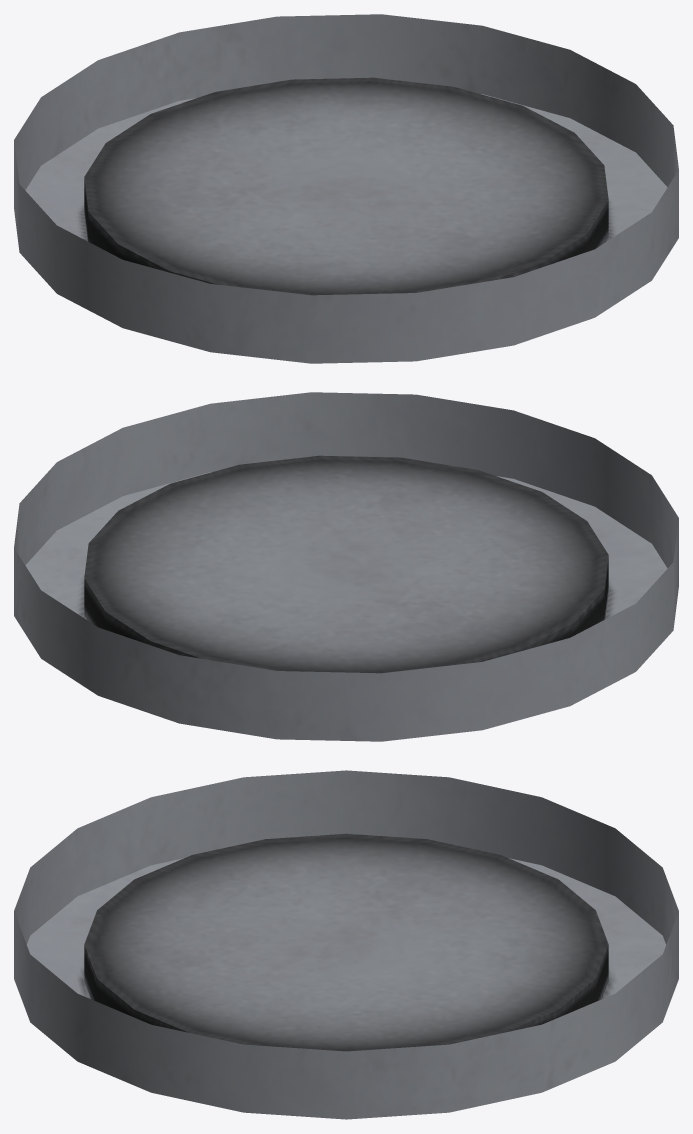
File: Ceiling Spot Light.fbx
The picture shows the model from 3 angles, top to bottom: view 1: azimuth 30°, elevation 25°; view 2: azimuth 150°, elevation 25°; view 3: azimuth 270°, elevation 25°; orthographic projection.
Visible parts, largest first — view 1: Ceiling_Spot_Light; view 2: Ceiling_Spot_Light; view 3: Ceiling_Spot_Light.
Part boxes in pixels (x1,y1,x2,y2): Ceiling_Spot_Light: (14, 14, 678, 363); Ceiling_Spot_Light: (14, 392, 678, 741); Ceiling_Spot_Light: (14, 770, 678, 1119).
Size of the model in its own units: 17.46 by 2.04 by 17.46.
